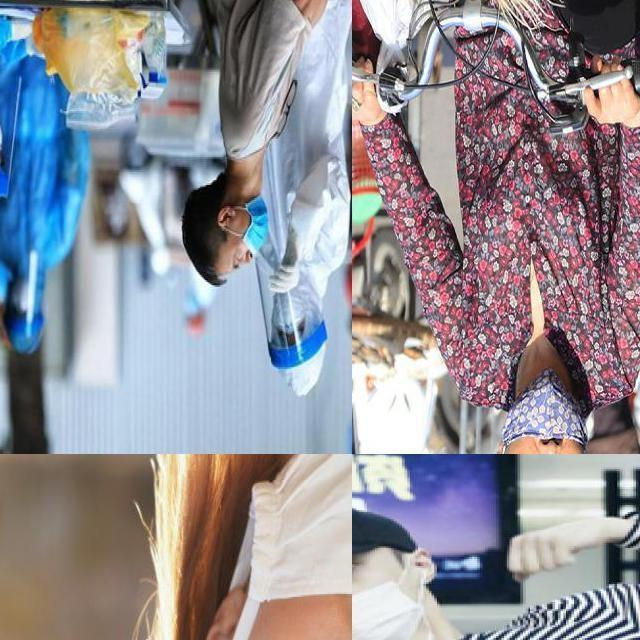hairnet: (511, 383, 582, 453), (231, 195, 269, 274)
